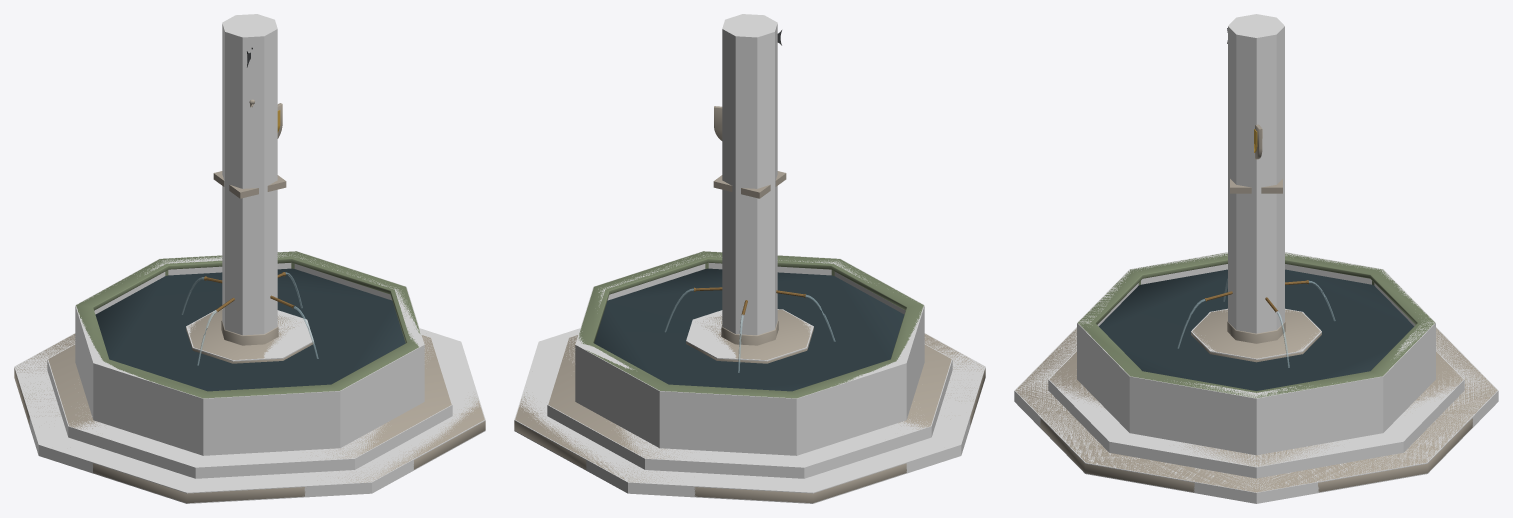
File: marktbrunnen.glb
The picture shows the model from 3 angles, left to right: view 1: azimuth 30°, elevation 25°; view 2: azimuth 150°, elevation 25°; view 3: azimuth 270°, elevation 25°; orthographic projection.
Visible parts, largest first — view 1: marktbrunnen, COL_HULL_11, COL_HULL_0, COL_HULL_1, COL_HULL_4, COL_HULL_5, COL_HULL_3, COL_HULL_10, COL_HULL_6, COL_HULL_8, COL_HULL_9, COL_HULL_2 (+1 smaller); view 2: marktbrunnen, COL_HULL_11, COL_HULL_0, COL_HULL_1, COL_HULL_7, COL_HULL_6, COL_HULL_8, COL_HULL_10, COL_HULL_5, COL_HULL_2, COL_HULL_3, COL_HULL_4; view 3: marktbrunnen, COL_HULL_11, COL_HULL_1, COL_HULL_0, COL_HULL_2, COL_HULL_9, COL_HULL_8, COL_HULL_3, COL_HULL_5, COL_HULL_6.
Boxes of the visible parts, x1,y1,x2,y2 form: marktbrunnen: (14,47,485,503); COL_HULL_11: (222,14,277,335); COL_HULL_0: (14,328,485,503); COL_HULL_1: (47,334,452,478); COL_HULL_4: (203,391,340,455); COL_HULL_5: (93,361,203,455); COL_HULL_3: (340,343,424,447); COL_HULL_10: (186,309,313,361); COL_HULL_6: (75,305,102,419); COL_HULL_8: (160,251,296,275); COL_HULL_9: (294,251,405,300); COL_HULL_2: (395,286,424,344); marktbrunnen: (514,30,985,503); COL_HULL_11: (722,14,777,335); COL_HULL_0: (514,328,985,503); COL_HULL_1: (547,334,952,478); COL_HULL_7: (659,391,796,455); COL_HULL_6: (796,360,906,455); COL_HULL_8: (575,343,659,447); COL_HULL_10: (686,309,813,361); COL_HULL_5: (897,305,924,419); COL_HULL_2: (594,251,705,300); COL_HULL_3: (703,251,839,275); COL_HULL_4: (834,259,924,314); marktbrunnen: (1015,28,1497,492); COL_HULL_11: (1228,14,1284,333); COL_HULL_1: (1048,350,1464,478); COL_HULL_0: (1014,327,1498,503); COL_HULL_2: (1129,376,1256,455); COL_HULL_9: (1256,376,1383,455); COL_HULL_8: (1383,323,1435,432); COL_HULL_3: (1077,323,1129,432); COL_HULL_5: (1130,252,1227,284); COL_HULL_6: (1285,252,1382,284).
Bounding box in the file's own units: 7.13 × 6.1 × 7.13.
